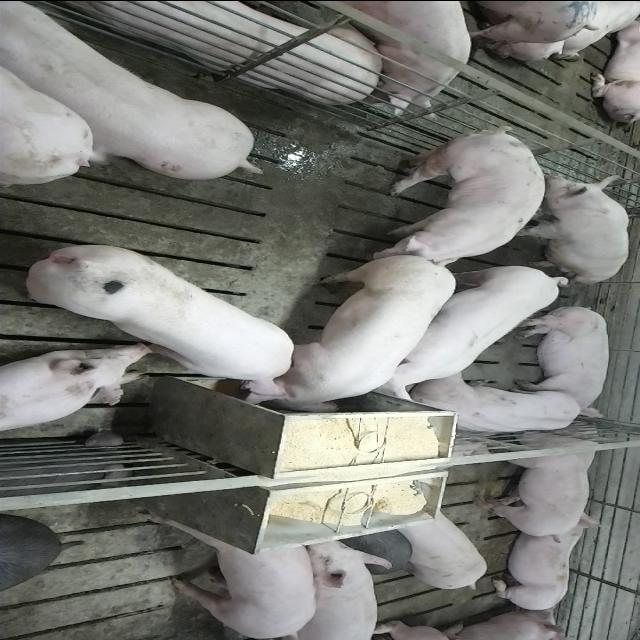Feeding: (21, 242, 304, 399), (257, 256, 463, 416)
Lateral_lying: (94, 0, 391, 104), (506, 306, 618, 420)
Sitting: (513, 174, 635, 288)
Standing: (344, 262, 572, 402), (363, 125, 550, 261), (140, 512, 312, 640), (345, 0, 480, 117), (470, 422, 606, 538), (286, 534, 396, 640), (395, 500, 489, 590)
Sternal_lying: (0, 0, 262, 180), (0, 339, 158, 434), (484, 515, 606, 610), (424, 371, 590, 436), (406, 606, 574, 640)
